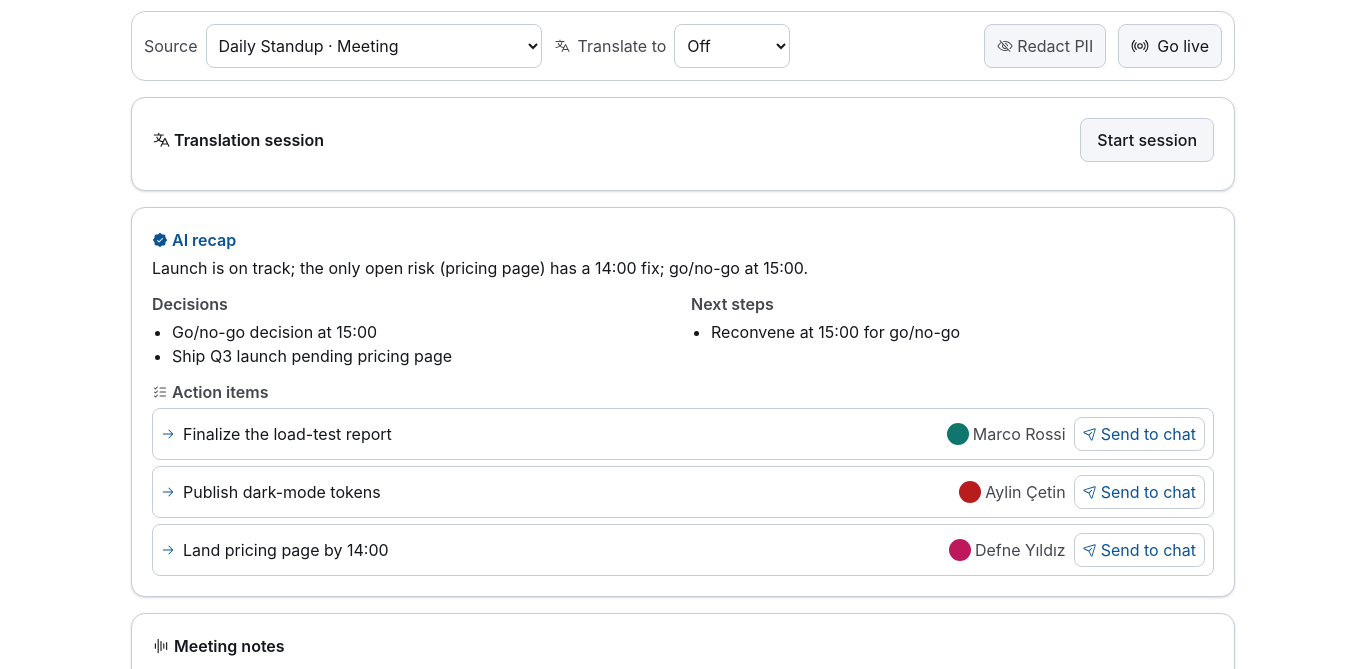
Test: Intelligence E2E chain (in-process) › switches target language and shows the open-map translation; analysis report resolves
This screenshot has width=1366, height=669.
# language switch → Spanish open-map translation appears
Select "Español" in the dropdown labelled "Translate to" at (732, 46), box [674,24,790,68]
(page scrolled)
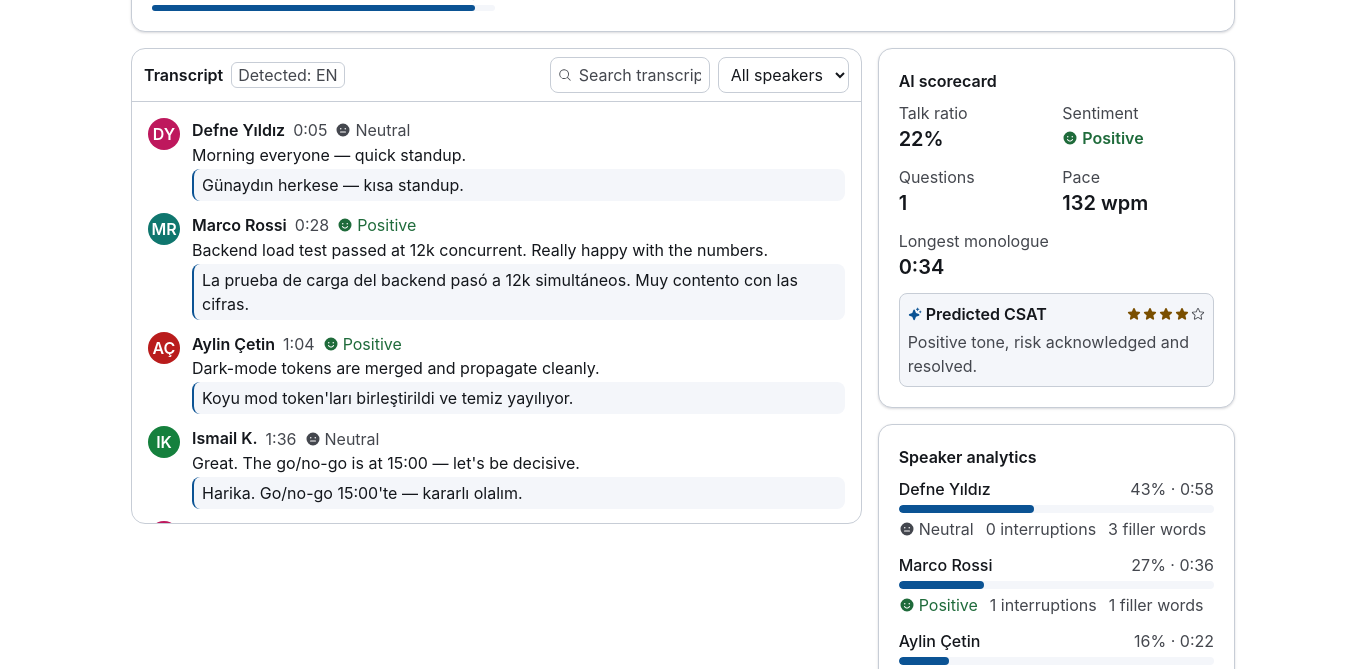
Expected: the text "La prueba de carga del backend" is shown, [202,270,798,314]
